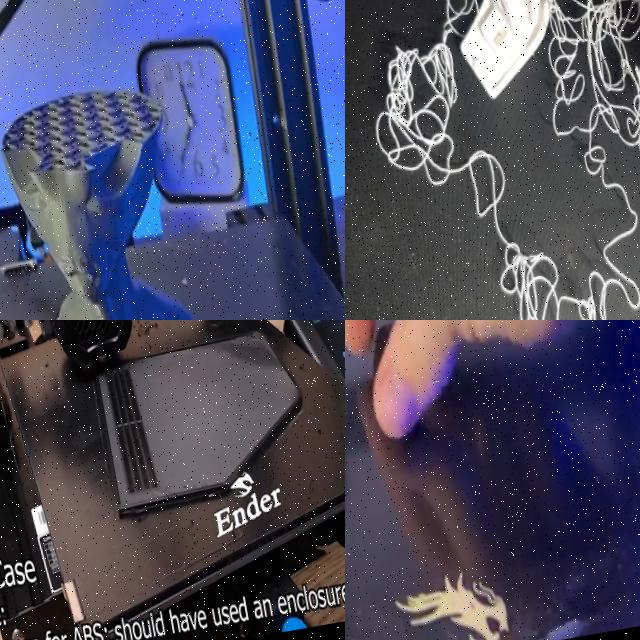spaghetti: (345, 0, 640, 320)
